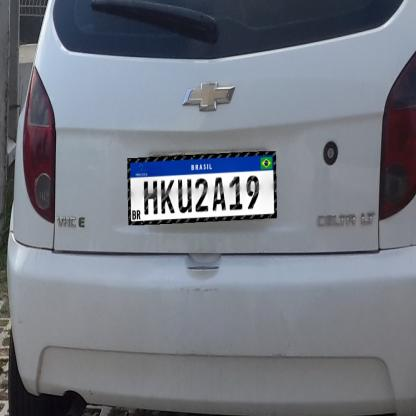PlacaM: (127, 151, 277, 225)
